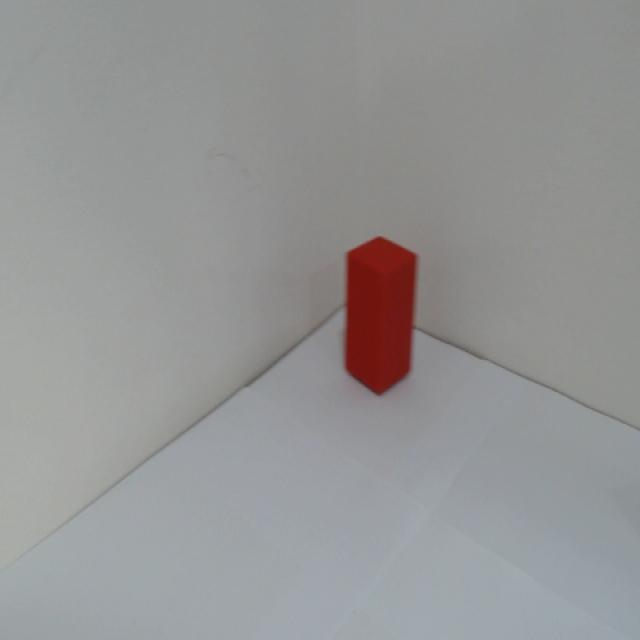cube: (340, 232, 420, 403)
